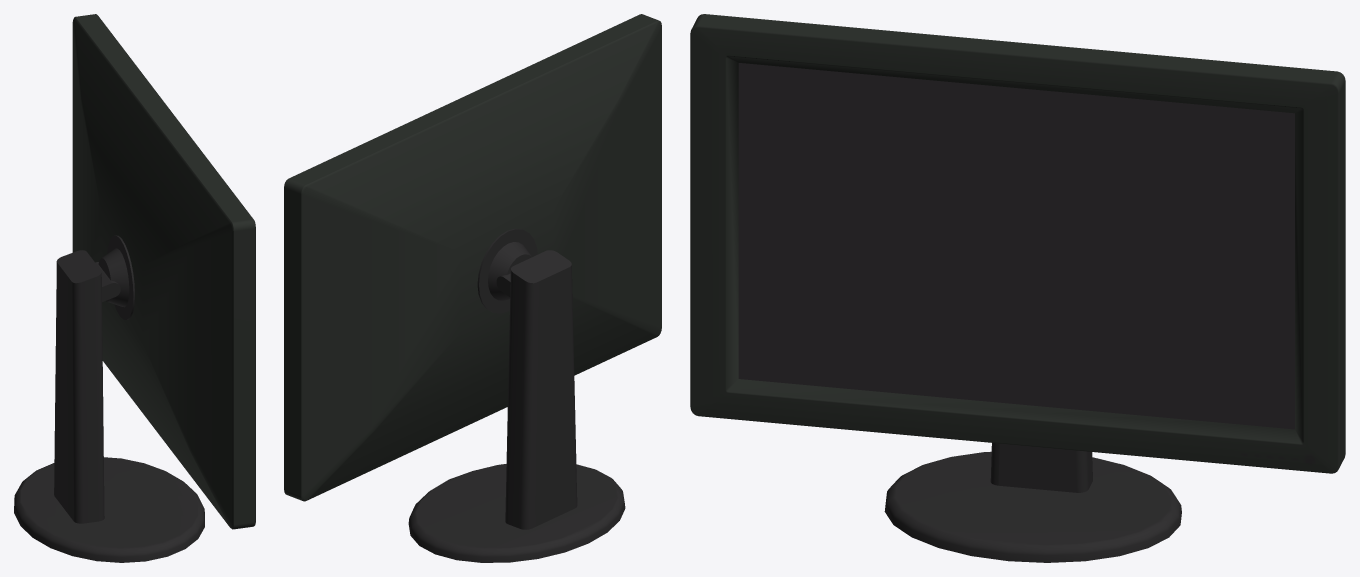
The model's file is DisplayScreen2.obj.
3 views of the same model, side by side, from view 1: azimuth 30°, elevation 25°; view 2: azimuth 150°, elevation 25°; view 3: azimuth 270°, elevation 25° (orthographic). The views are drawn at different scales.
Visible parts, largest first — view 1: node_id5.009_mesh_id6.002; view 2: node_id5.009_mesh_id6.002; view 3: node_id5.009_mesh_id6.002.
Part boxes in pixels (x1,y1,x2,y2): node_id5.009_mesh_id6.002: [14, 14, 255, 562]; node_id5.009_mesh_id6.002: [284, 14, 661, 562]; node_id5.009_mesh_id6.002: [690, 14, 1345, 562].
Size of the model in its own units: 0.4554 by 0.8953 by 1.08.
